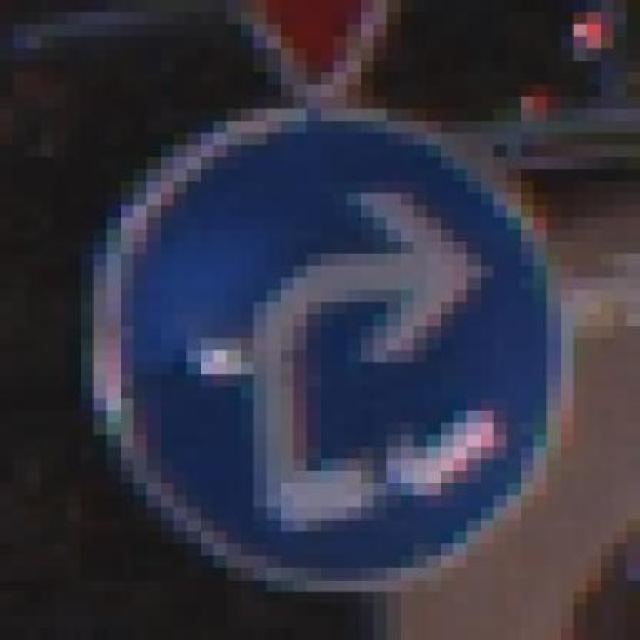Turn right ahead: (66, 109, 574, 592)
